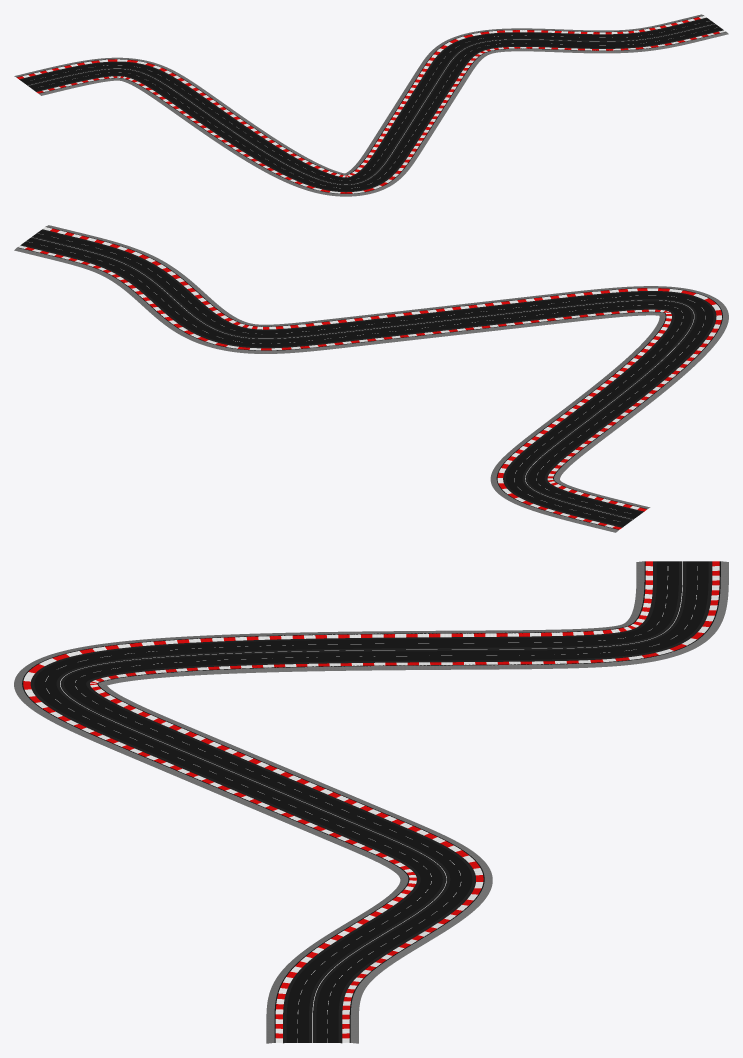
File: S0.2c1-Zee.glb
3 renders of one model, top to bottom at view 1: azimuth 30°, elevation 25°; view 2: azimuth 150°, elevation 25°; view 3: azimuth 270°, elevation 25°, orthographic. The views are drawn at different scales.
Visible parts, largest first — view 1: Grid; view 2: Grid; view 3: Grid.
Boxes of the visible parts, x1,y1,x2,y2 form: Grid: (14, 14, 728, 196); Grid: (14, 225, 728, 532); Grid: (14, 561, 728, 1043).
Bounding box in the file's own units: 308 × 0.31 × 193.
